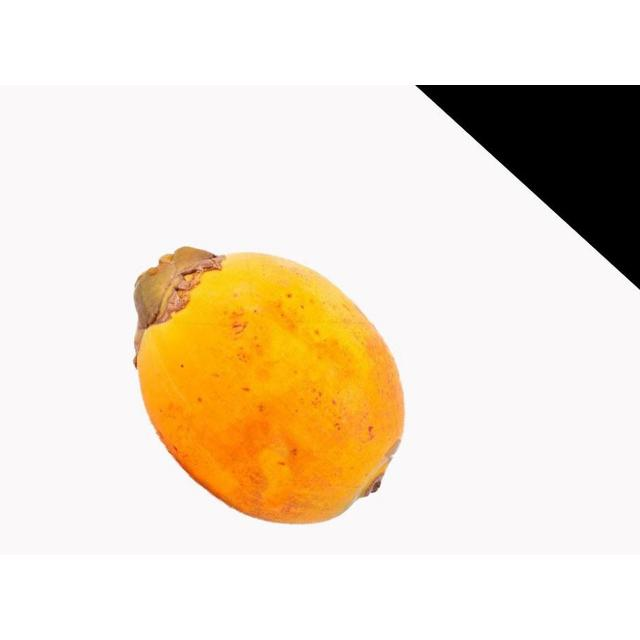good: (131, 246, 408, 528)
